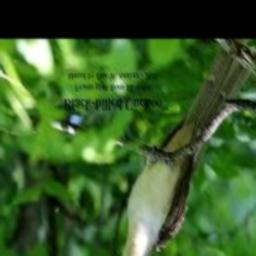Cuckoo: (120, 39, 256, 256)
